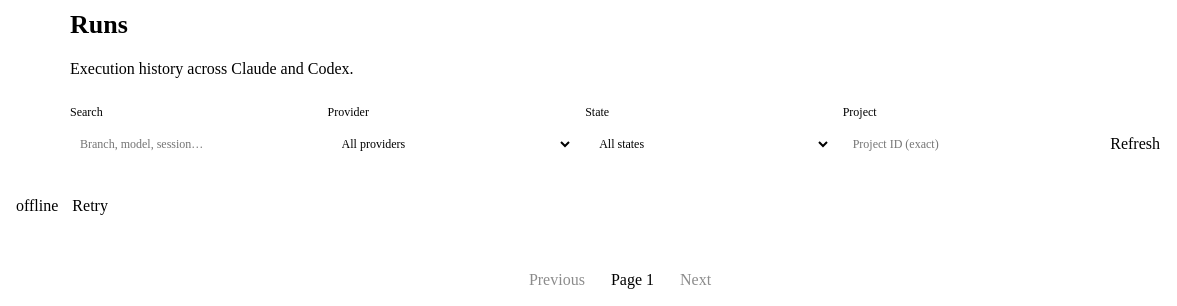
Runs › recovers from an API error using Retry and shows empty history
This screenshot has width=1177, height=306.
Expected: the message shows "offline", top-left (16, 197), bottom-right (58, 214)
Click the button "Retry": coordinates (90, 206) top-left (62, 186), bottom-right (118, 226)
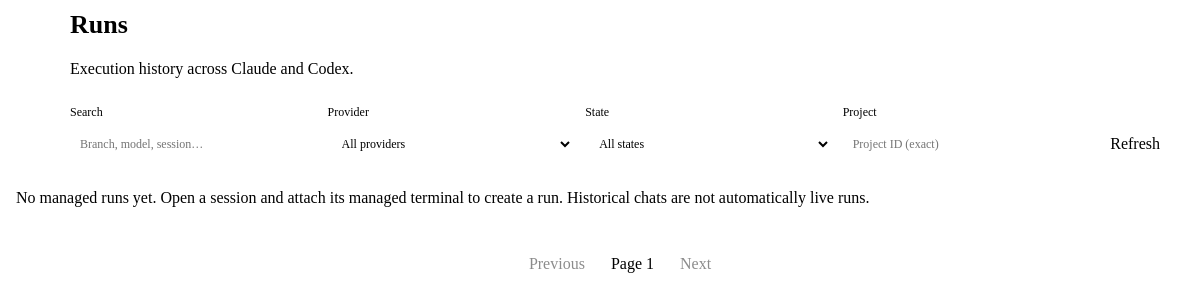
Expected: the text "No managed runs yet" is shown, top-left (16, 189), bottom-right (870, 206)
